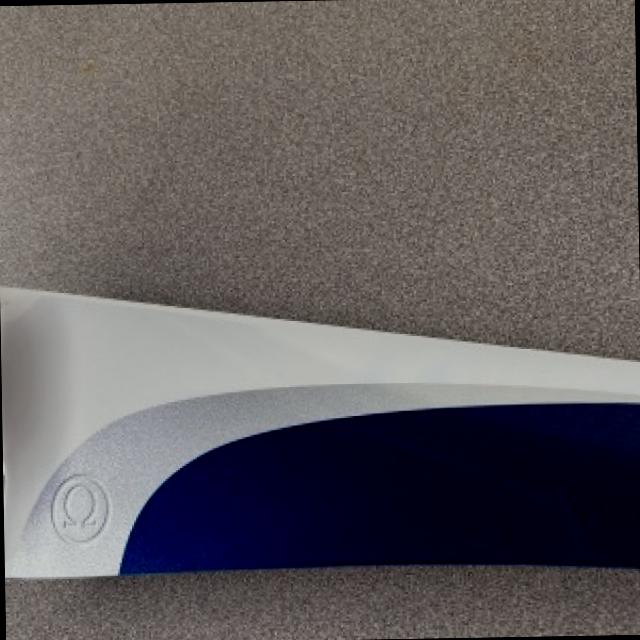healthy: (1, 285, 640, 573)
